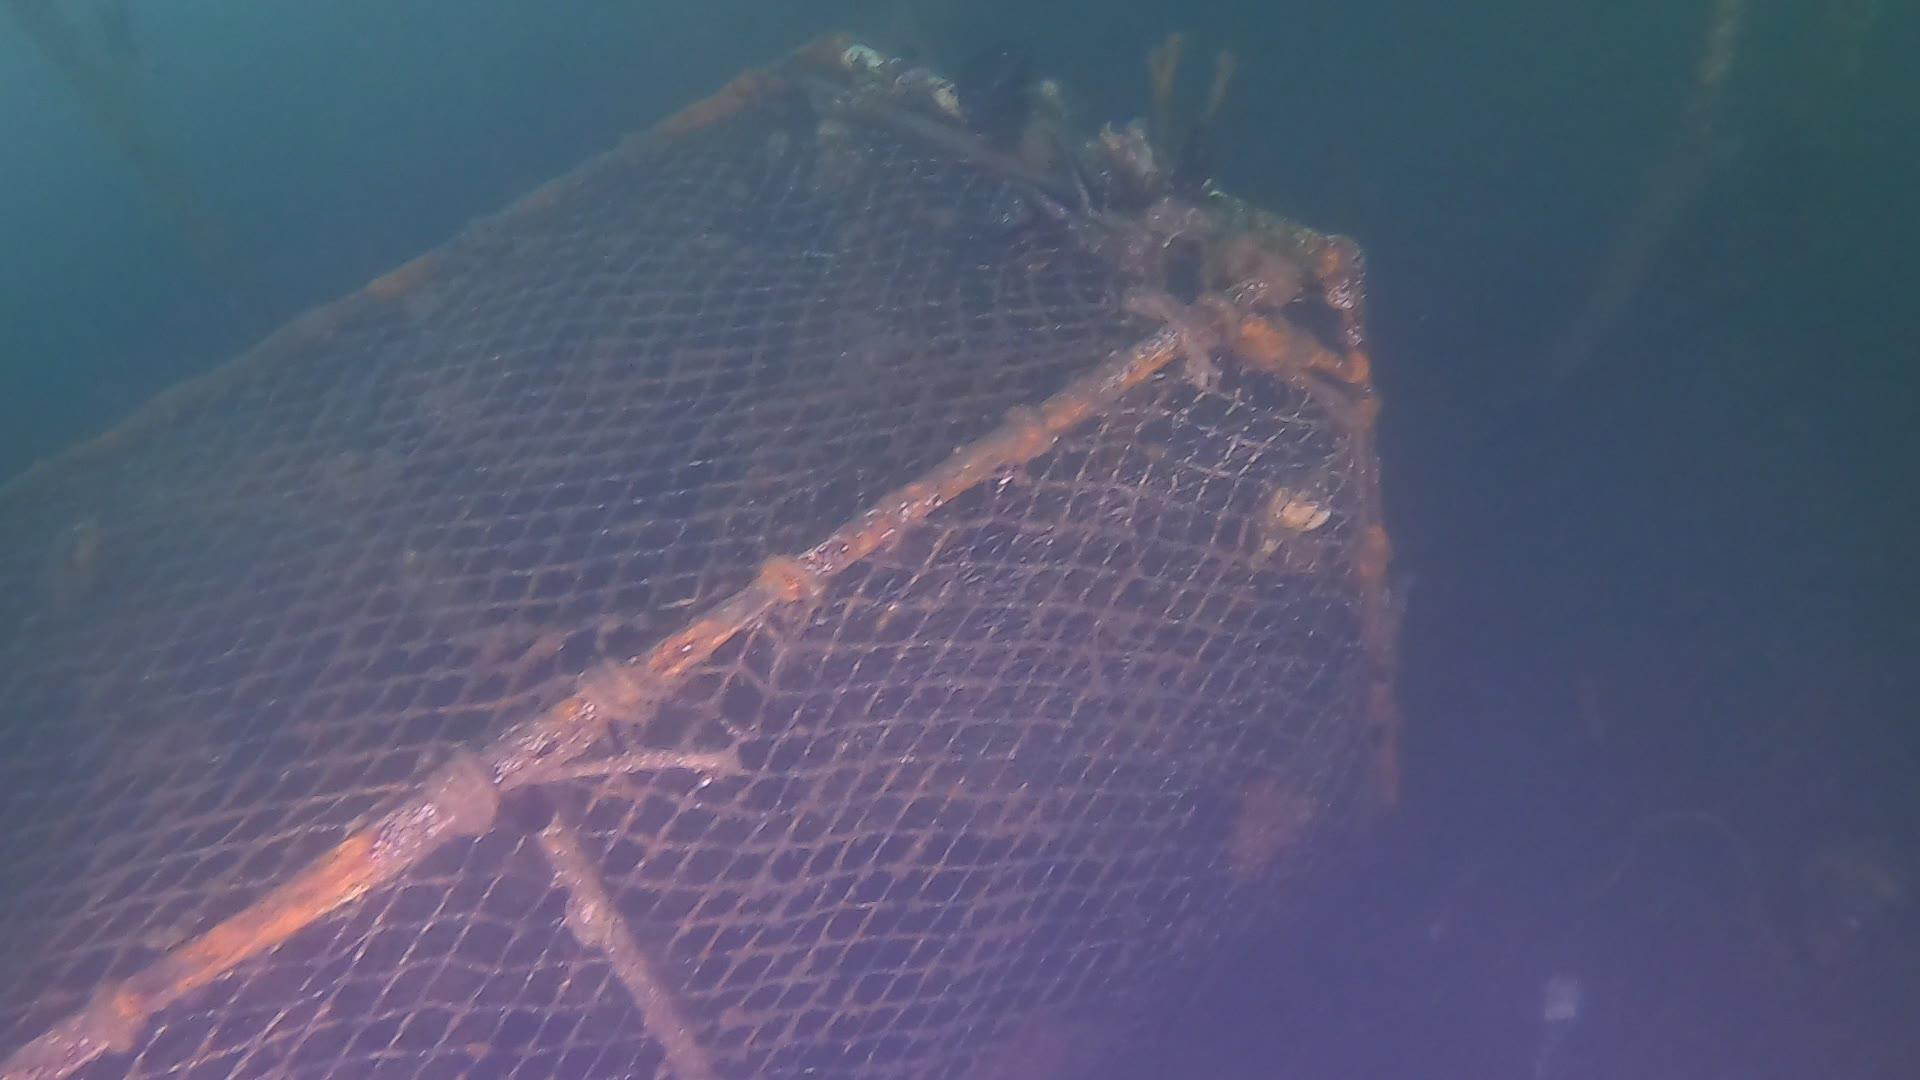rectangular fish trap: (0, 34, 1400, 1080)
